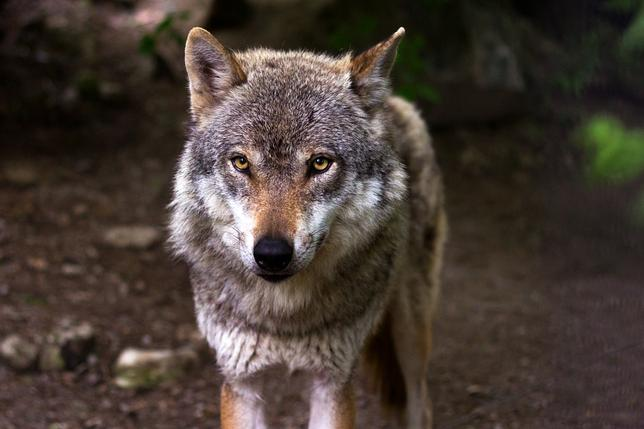wolf: (152, 22, 455, 429)
